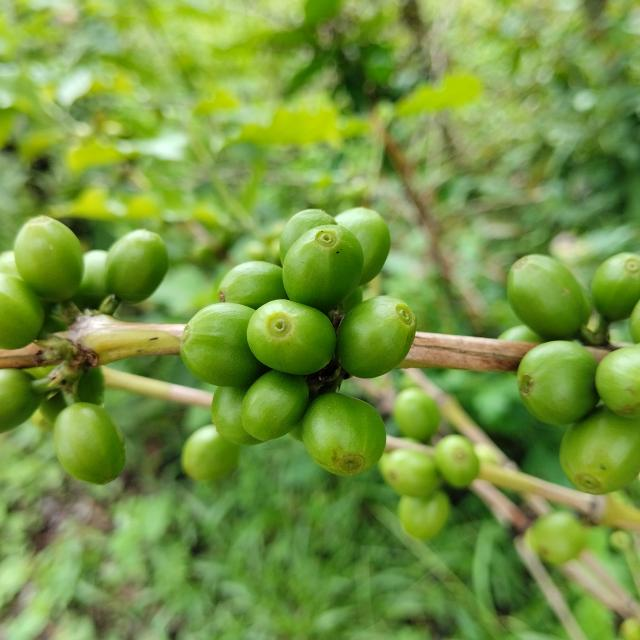green: (508, 254, 592, 341), (282, 224, 364, 313), (180, 303, 265, 387), (560, 406, 640, 495), (302, 393, 386, 477), (518, 341, 601, 425), (247, 299, 337, 375), (336, 296, 417, 378), (13, 215, 82, 302), (52, 403, 125, 485), (241, 370, 309, 442), (105, 229, 168, 303), (335, 207, 391, 285), (218, 261, 289, 309), (592, 252, 640, 322), (0, 273, 44, 349), (596, 344, 640, 418), (181, 425, 239, 481), (279, 209, 337, 264), (210, 387, 263, 446), (379, 449, 439, 498), (0, 369, 41, 433), (435, 435, 480, 488), (71, 250, 108, 309), (499, 324, 544, 343)
